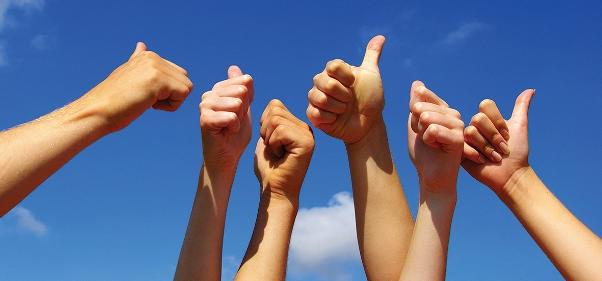thumbsup: (306, 34, 391, 144), (462, 86, 539, 179)
